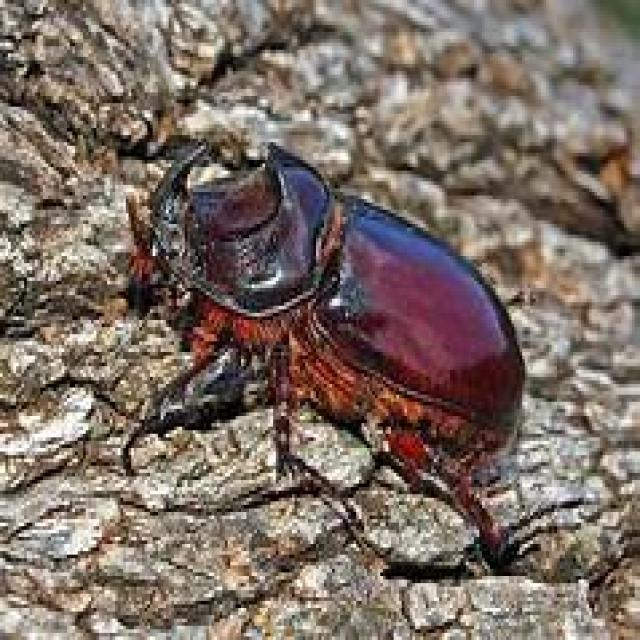Rhino-beetle: (134, 104, 585, 554)
